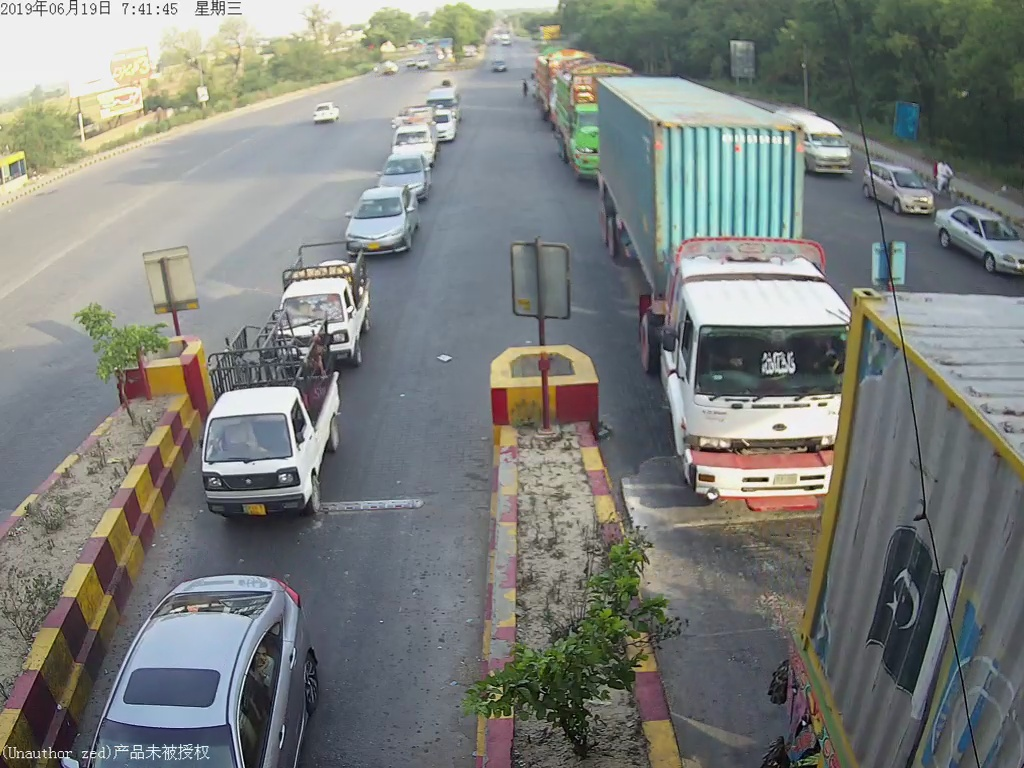Cat-1: (200, 332, 350, 532), (273, 251, 370, 327)
Cat-5: (594, 73, 848, 520)
